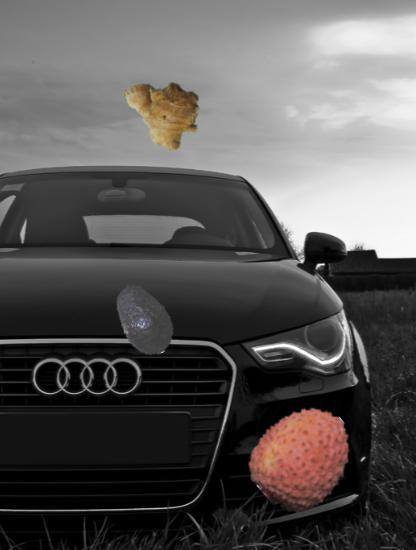Avocado: (107, 281, 183, 357)
Ginger: (119, 73, 201, 155)
Lychee: (251, 405, 359, 513)
